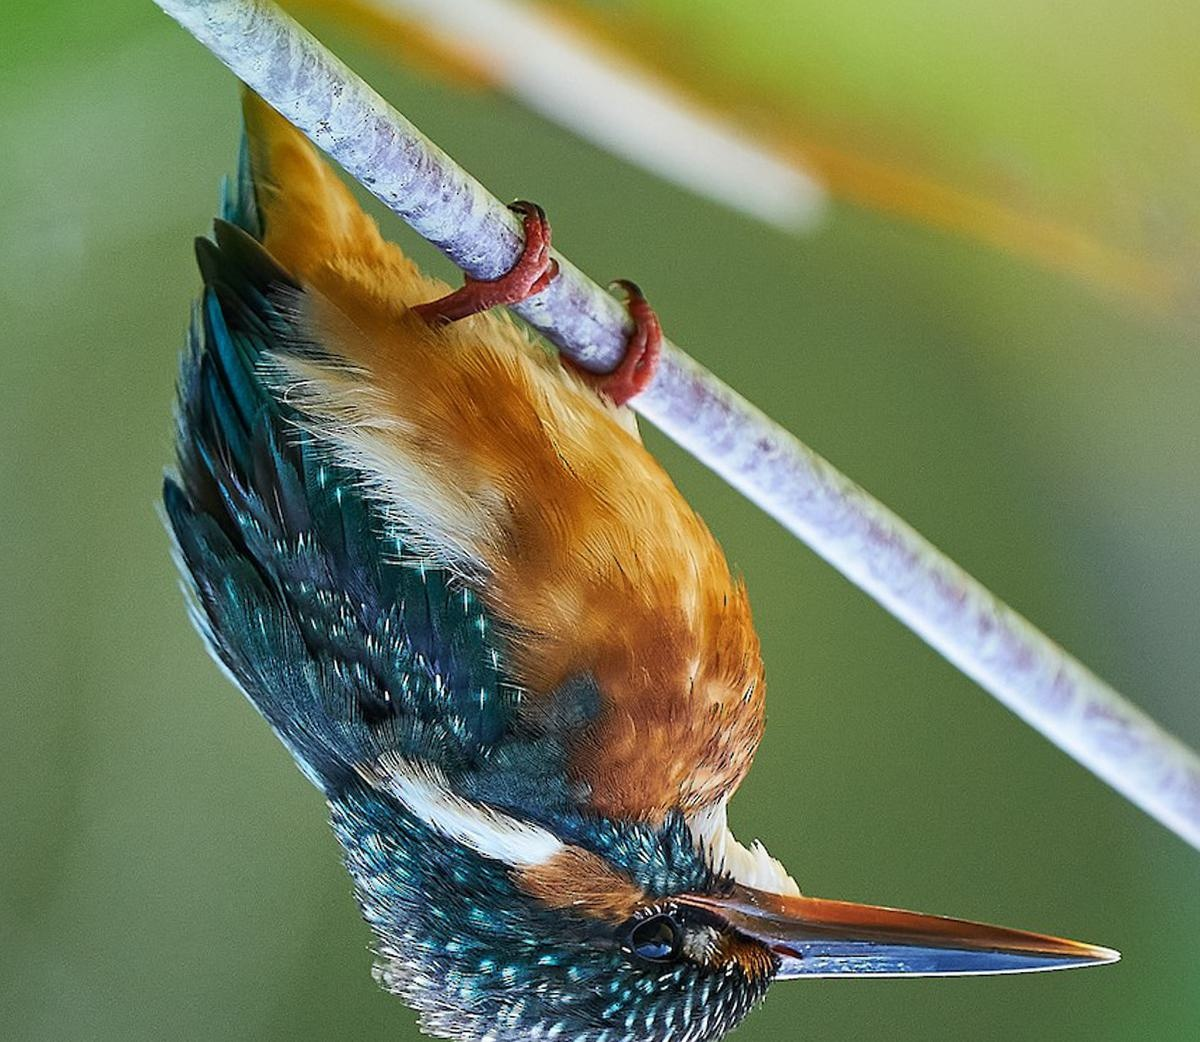kingfisher: (198, 122, 1120, 1021)
